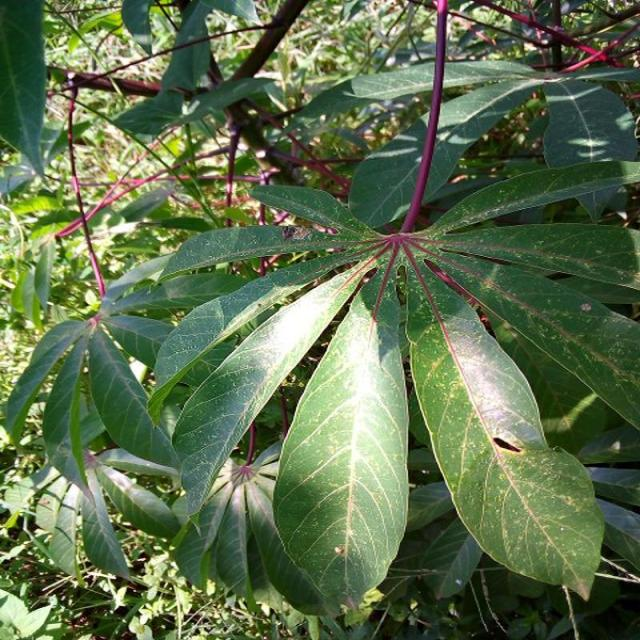cassava leaf: (404, 257, 605, 602), (270, 268, 410, 615)
